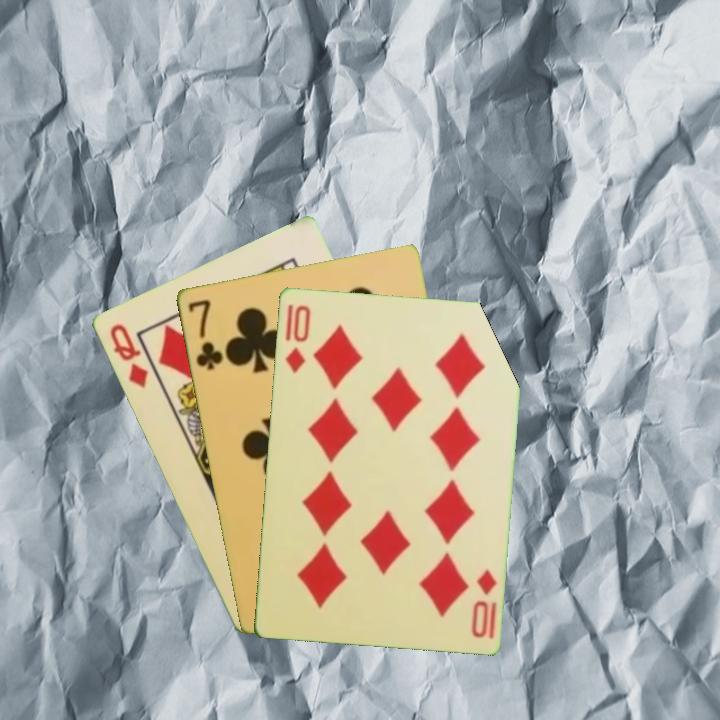10d: (467, 565, 500, 640), (281, 301, 313, 375)
7c: (184, 295, 226, 373)
Qd: (105, 319, 151, 392)
